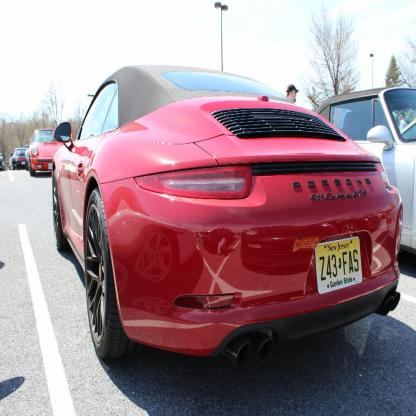Car: (42, 67, 411, 372), (314, 87, 416, 254), (30, 125, 59, 174), (12, 147, 25, 170), (26, 145, 31, 170)
